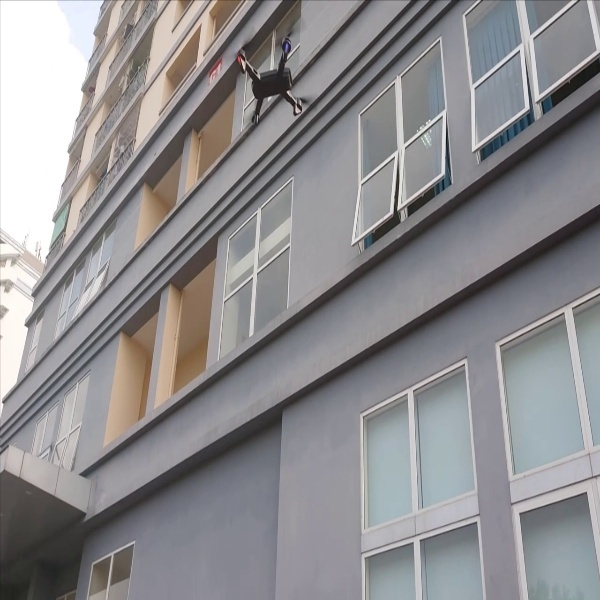drone: (229, 16, 319, 126)
